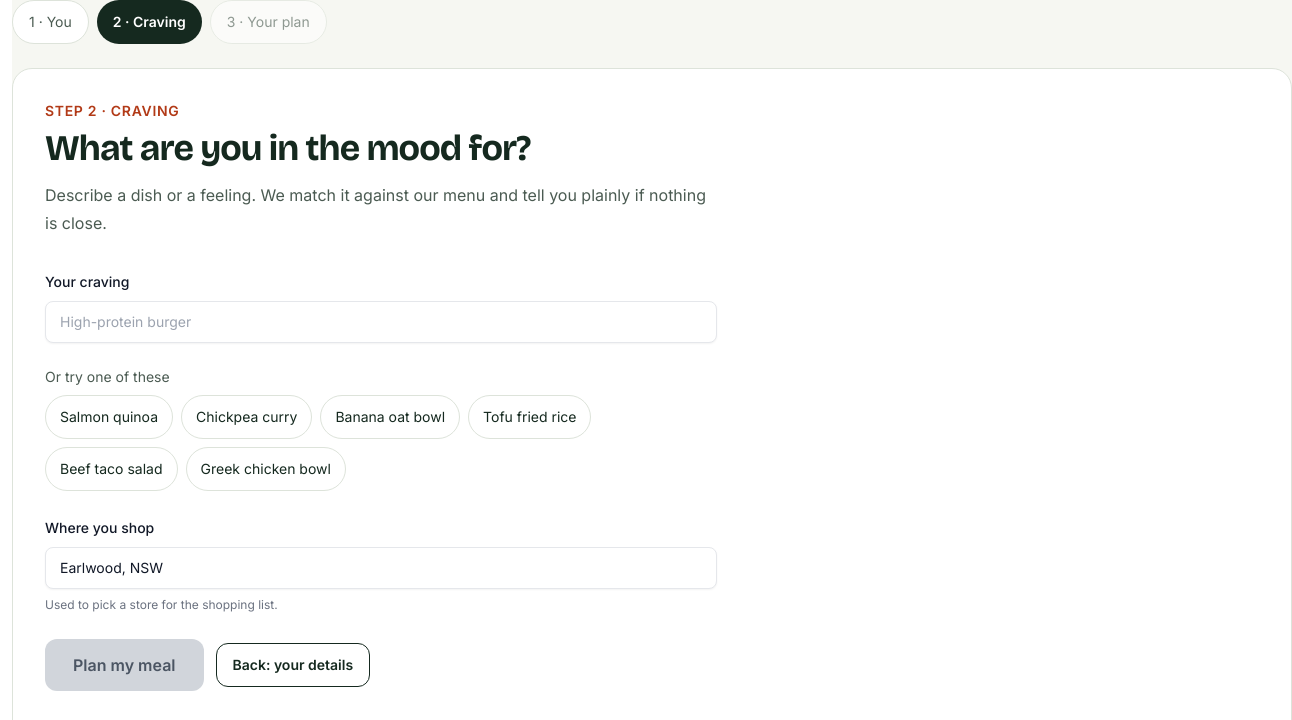
Scenario: Shopping list › says when the store is a guess for the area
Type "chicken fried rice" into the field labelled "Your craving" at (381, 322), box [45,301,717,343]
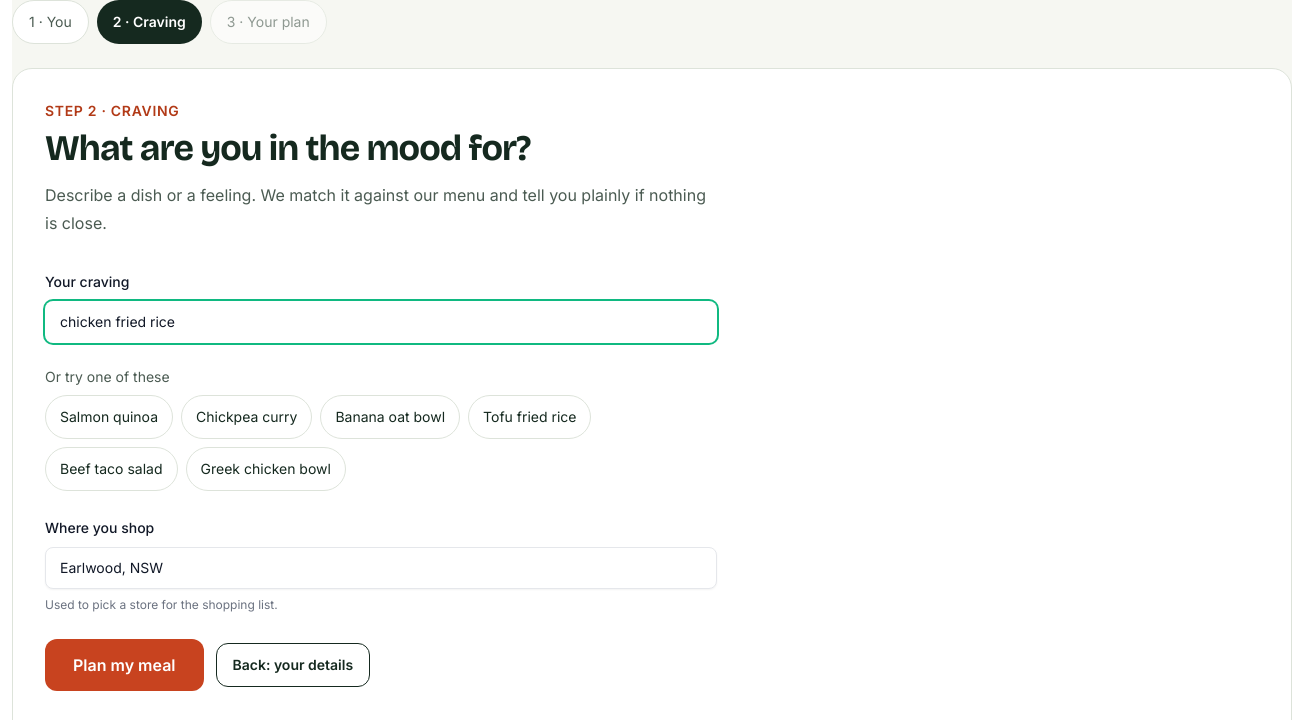
Click the button "Plan my meal" at (124, 665), box [45,639,204,691]
(page scrolled)
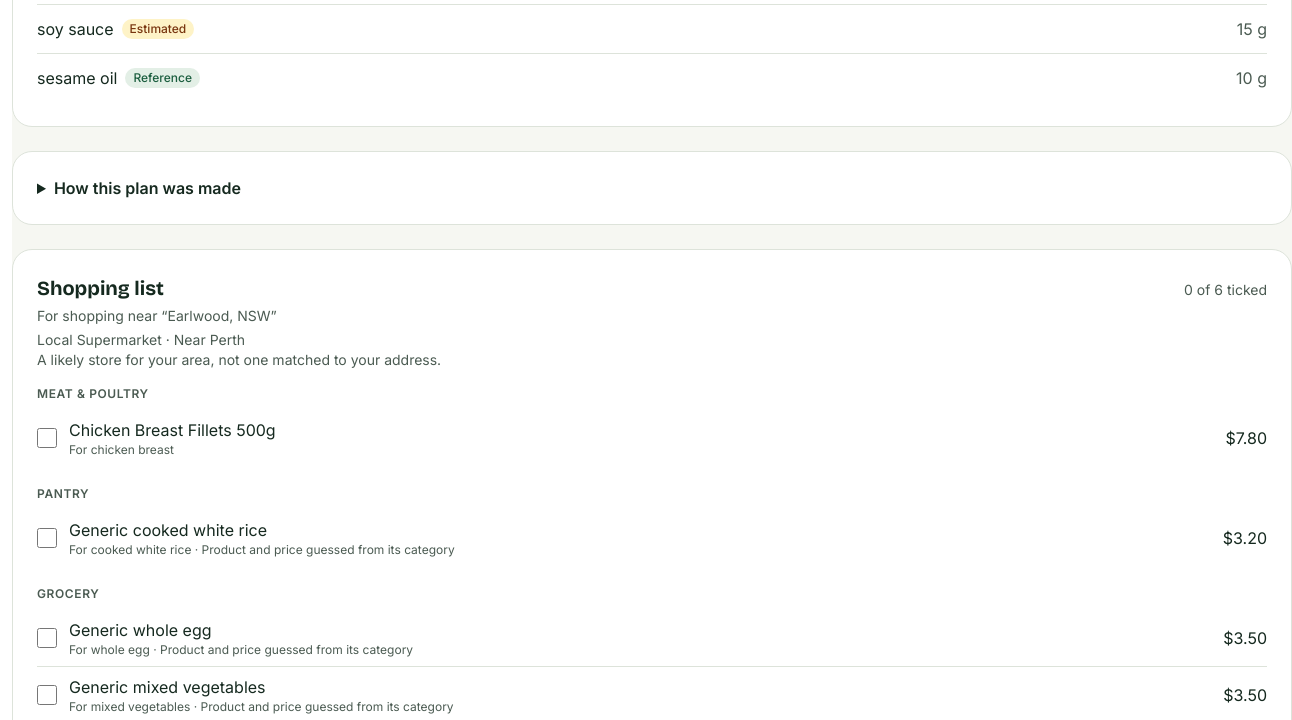
Expected: the text "A likely store for your area" is shown, [37,351,441,368]
